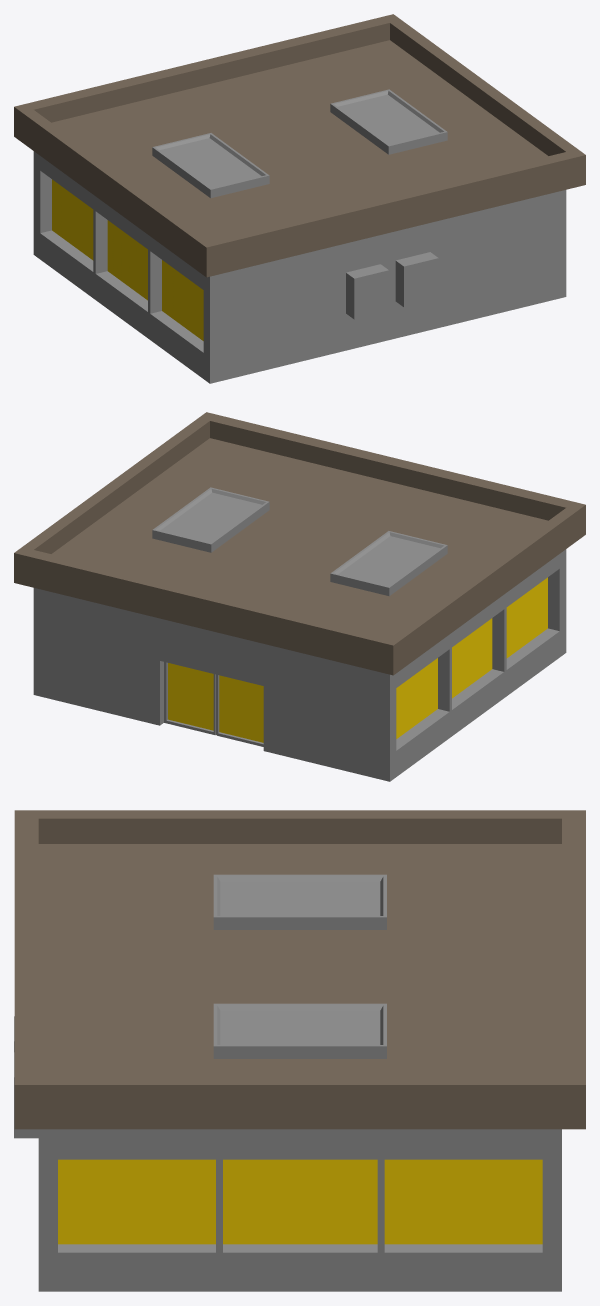
Rendered from Building_C.FBX.
3 views of the same model, one above another, from view 1: azimuth 30°, elevation 25°; view 2: azimuth 150°, elevation 25°; view 3: azimuth 270°, elevation 25° (orthographic). The views are drawn at different scales.
Parts seen in each view (by area): view 1: Building_C; view 2: Building_C; view 3: Building_C.
Boxes of the visible parts, box(x1,y1,x2,y2) form: Building_C: box(14, 14, 585, 383); Building_C: box(14, 412, 585, 781); Building_C: box(14, 810, 585, 1291).
Size of the model in its own units: 186 by 68.07 by 164.
